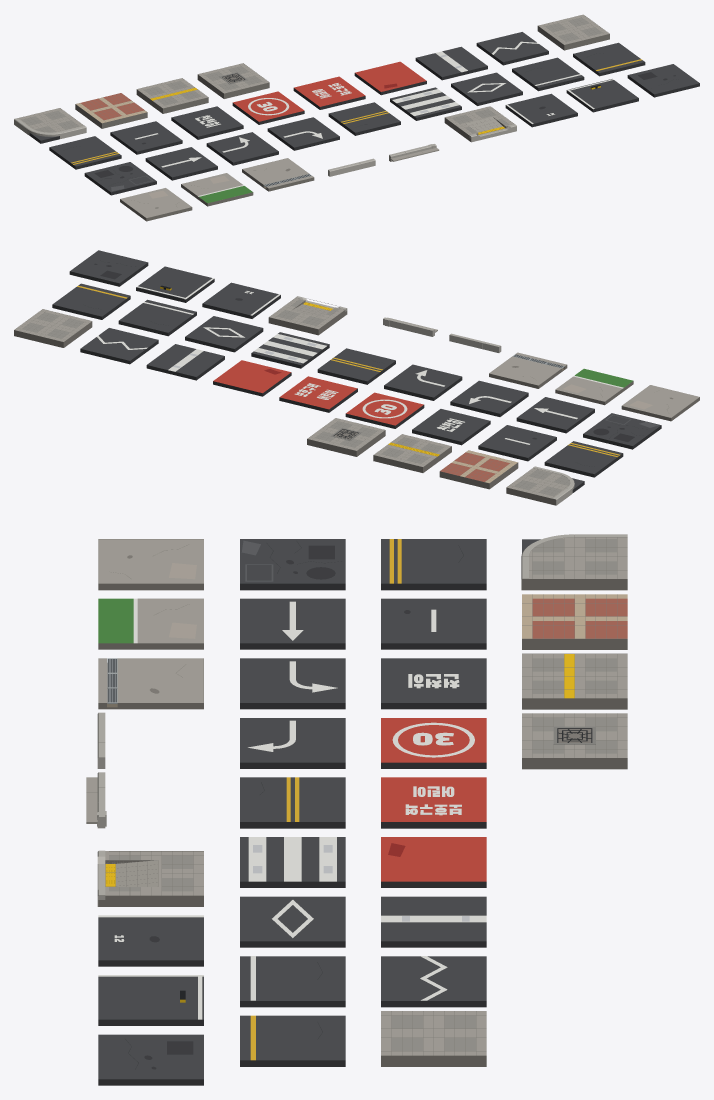
Rendered from SeoulCorner_Ground.glb.
3 views of the same model, one above another, from view 1: azimuth 30°, elevation 25°; view 2: azimuth 150°, elevation 25°; view 3: azimuth 270°, elevation 25° (orthographic). The views are drawn at different scales.
Visible parts, largest first — view 1: SC_Gnd_Curb_Ramp, SC_Gnd_Sidewalk_Corner_3x3, SC_Gnd_Sidewalk_3x3, SC_Gnd_Sidewalk_Tactile_3x3, SC_Gnd_Tree_Pit, SC_Gnd_Sidewalk_Red_3x3, SC_Gnd_Alley_Drain_3x3, SC_Gnd_Road_SchoolZone_Plain_3x3, SC_Gnd_Road_Arrow_Left, SC_Gnd_Road_Arrow_Right, SC_Gnd_Road_CenterLine_3x3, SC_Gnd_Road_Lane_3x3 (+19 smaller); view 2: SC_Gnd_Sidewalk_Red_3x3, SC_Gnd_Sidewalk_Tactile_3x3, SC_Gnd_Sidewalk_3x3, SC_Gnd_Tree_Pit, SC_Gnd_Curb_Ramp, SC_Gnd_Sidewalk_Corner_3x3, SC_Gnd_Road_Edge_Yellow_Double_3x3, SC_Gnd_Alley_Concrete_Green_3x3, SC_Gnd_Road_SchoolZone_30_3x3, SC_Gnd_Road_3x3, SC_Gnd_Road_SchoolZone_Plain_3x3, SC_Gnd_Parking_Lines_End_3x3 (+19 smaller); view 3: SC_Gnd_Sidewalk_Tactile_3x3, SC_Gnd_Tree_Pit, SC_Gnd_Curb_Ramp, SC_Gnd_Sidewalk_3x3, SC_Gnd_Sidewalk_Red_3x3, SC_Gnd_Sidewalk_Corner_3x3, SC_Gnd_Alley_Concrete_3x3, SC_Gnd_Alley_Concrete_Green_3x3, SC_Gnd_Alley_Drain_3x3, SC_Gnd_Parking_Lines_3x3, SC_Gnd_Road_3x3, SC_Gnd_Road_3x3_Patched (+18 smaller).
Part boxes in pixels (left/top/right/bottom): SC_Gnd_Curb_Ramp: left=444, top=106, right=516, bottom=142; SC_Gnd_Sidewalk_Corner_3x3: left=14, top=108, right=86, bottom=143; SC_Gnd_Sidewalk_3x3: left=537, top=14, right=609, bottom=50; SC_Gnd_Sidewalk_Tactile_3x3: left=136, top=78, right=208, bottom=113; SC_Gnd_Tree_Pit: left=197, top=63, right=269, bottom=98; SC_Gnd_Sidewalk_Red_3x3: left=75, top=93, right=147, bottom=128; SC_Gnd_Alley_Drain_3x3: left=242, top=158, right=314, bottom=191; SC_Gnd_Road_SchoolZone_Plain_3x3: left=354, top=61, right=426, bottom=95; SC_Gnd_Road_Arrow_Left: left=206, top=132, right=278, bottom=165; SC_Gnd_Road_Arrow_Right: left=267, top=117, right=339, bottom=150; SC_Gnd_Road_CenterLine_3x3: left=328, top=102, right=400, bottom=135; SC_Gnd_Road_Lane_3x3: left=110, top=121, right=182, bottom=154; SC_Gnd_Sidewalk_Red_3x3: left=439, top=450, right=518, bottom=489; SC_Gnd_Sidewalk_Tactile_3x3: left=373, top=434, right=451, bottom=472; SC_Gnd_Sidewalk_3x3: left=14, top=309, right=92, bottom=347; SC_Gnd_Tree_Pit: left=307, top=418, right=385, bottom=456; SC_Gnd_Curb_Ramp: left=268, top=296, right=347, bottom=335; SC_Gnd_Sidewalk_Corner_3x3: left=506, top=466, right=584, bottom=505; SC_Gnd_Road_Edge_Yellow_Double_3x3: left=544, top=441, right=623, bottom=477; SC_Gnd_Alley_Concrete_Green_3x3: left=555, top=368, right=633, bottom=405; SC_Gnd_Road_SchoolZone_30_3x3: left=345, top=392, right=424, bottom=428; SC_Gnd_Road_3x3: left=69, top=250, right=148, bottom=286; SC_Gnd_Road_SchoolZone_Plain_3x3: left=213, top=360, right=291, bottom=396; SC_Gnd_Parking_Lines_End_3x3: left=136, top=266, right=214, bottom=302; SC_Gnd_Sidewalk_Tactile_3x3: left=522, top=653, right=627, bottom=709; SC_Gnd_Tree_Pit: left=522, top=713, right=627, bottom=769; SC_Gnd_Curb_Ramp: left=97, top=850, right=203, bottom=906; SC_Gnd_Sidewalk_3x3: left=381, top=1011, right=486, bottom=1066; SC_Gnd_Sidewalk_Red_3x3: left=522, top=594, right=627, bottom=649; SC_Gnd_Sidewalk_Corner_3x3: left=521, top=534, right=627, bottom=590; SC_Gnd_Alley_Concrete_3x3: left=98, top=539, right=203, bottom=590; SC_Gnd_Alley_Concrete_Green_3x3: left=98, top=598, right=203, bottom=649; SC_Gnd_Alley_Drain_3x3: left=98, top=658, right=203, bottom=709; SC_Gnd_Parking_Lines_3x3: left=98, top=915, right=203, bottom=966; SC_Gnd_Road_3x3: left=98, top=1034, right=203, bottom=1085; SC_Gnd_Road_3x3_Patched: left=240, top=539, right=345, bottom=590.
Size of the model in its own units: 36.28 by 0.365 by 15.36.
1 material, 1 textured.
